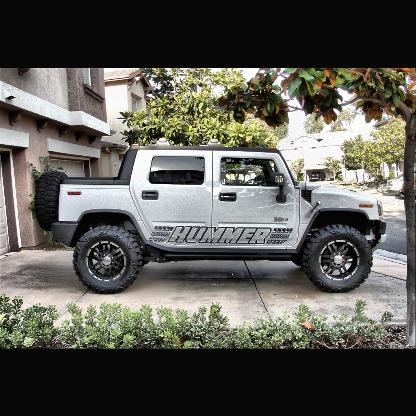HUMMER H2 SUT Crew Cab 2009: (36, 145, 387, 295)
